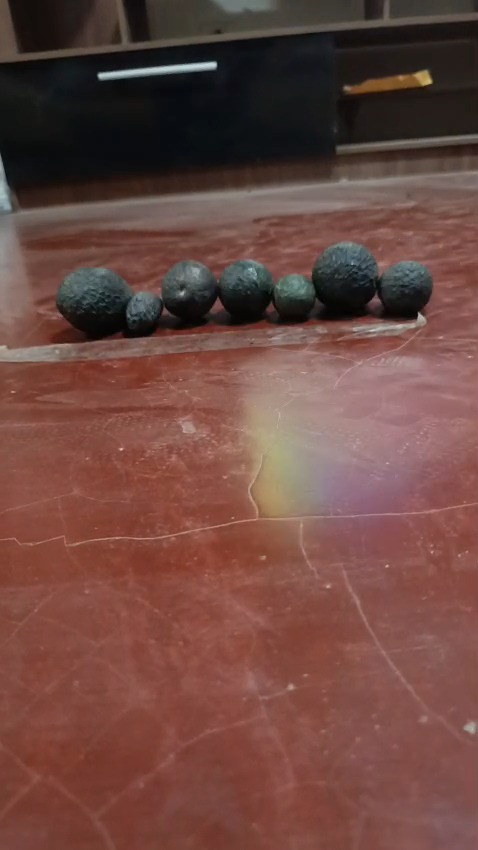Primera: (56, 266, 131, 335), (312, 240, 379, 313)
Segunda: (218, 259, 274, 321), (161, 259, 217, 321), (378, 260, 432, 317)
Tercera: (273, 273, 315, 321), (125, 291, 162, 335)
